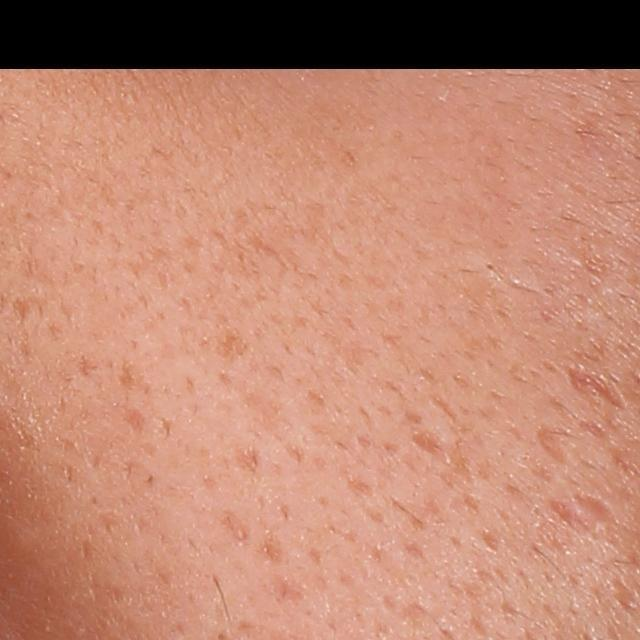atrophic_scar: (408, 431, 471, 487), (568, 362, 621, 408), (536, 424, 568, 464), (123, 404, 155, 442), (578, 495, 617, 526)
